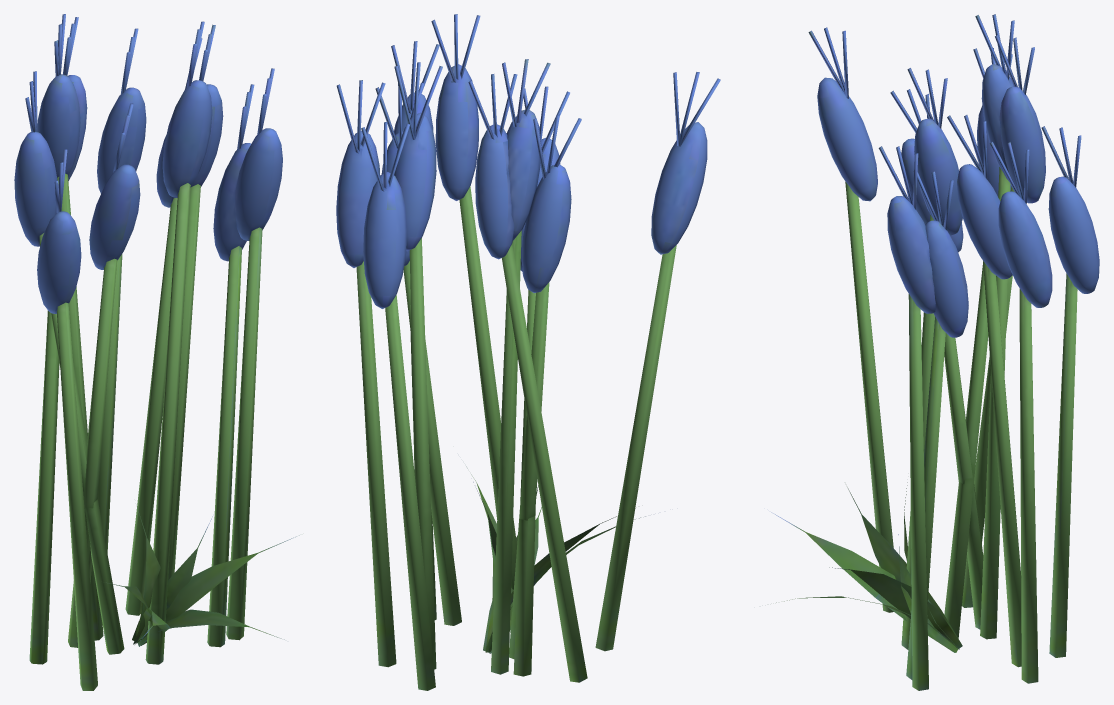
File: crop_flax.glb
3 views of the same model, side by side, from view 1: azimuth 30°, elevation 25°; view 2: azimuth 150°, elevation 25°; view 3: azimuth 270°, elevation 25° (orthographic). The views are drawn at different scales.
Parts seen in each view (by area): view 1: crop_flax, fruit; view 2: crop_flax, fruit; view 3: crop_flax, fruit.
Part boxes in pixels (<box>): crop_flax: <box>29,173,299,690</box>; fruit: <box>14,14,282,313</box>; crop_flax: <box>356,186,676,690</box>; fruit: <box>336,14,720,308</box>; crop_flax: <box>771,167,1077,690</box>; fruit: <box>808,14,1099,337</box>.
Bounding box in the file's own units: 0.2041 × 0.4404 × 0.2293.
1 material, 1 textured.
